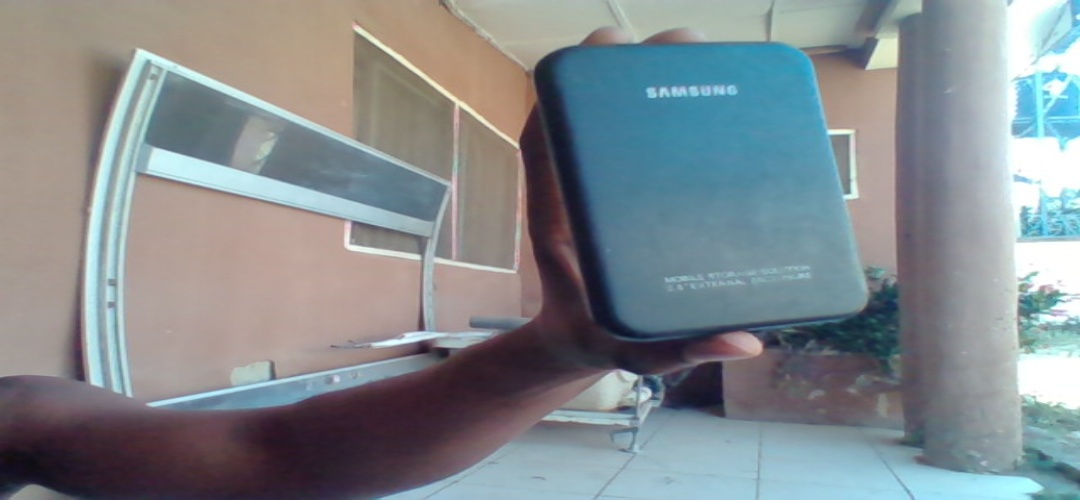hard_disk_case: (542, 47, 870, 332)
